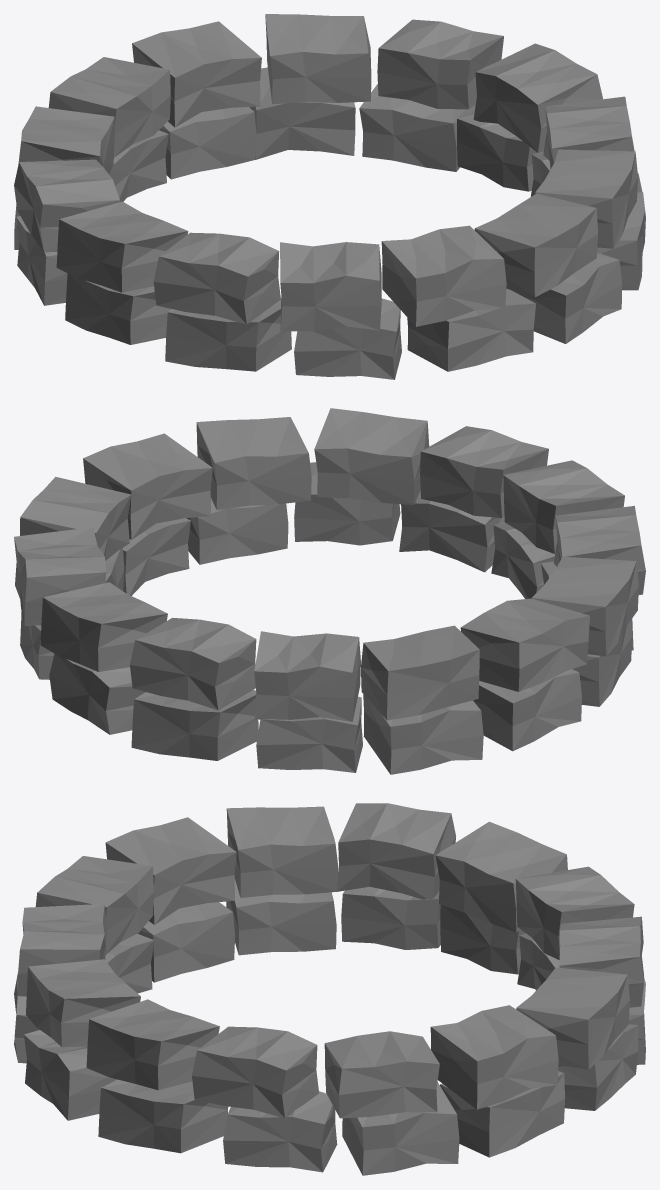
Rendered from rockbarrier_01_a.fbx.
The picture shows the model from 3 angles, top to bottom: view 1: azimuth 30°, elevation 25°; view 2: azimuth 150°, elevation 25°; view 3: azimuth 270°, elevation 25°; orthographic projection.
Visible parts, largest first — view 1: RockBarrier_01_a; view 2: RockBarrier_01_a; view 3: RockBarrier_01_a.
Part boxes in pixels (<box>): RockBarrier_01_a: <box>14,14,645,379</box>; RockBarrier_01_a: <box>14,408,645,774</box>; RockBarrier_01_a: <box>14,803,645,1175</box>.
Size of the model in its own units: 103 by 102 by 20.19.
